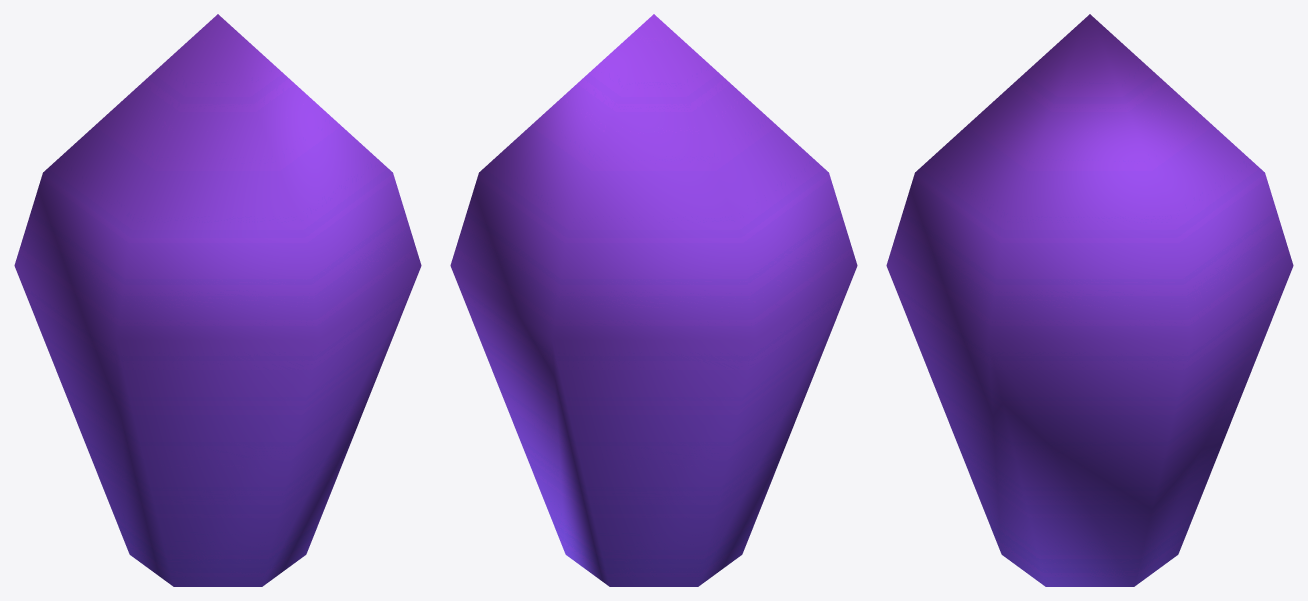
The model's file is little_crystal.glb.
3 renders of one model, left to right at view 1: azimuth 30°, elevation 25°; view 2: azimuth 150°, elevation 25°; view 3: azimuth 270°, elevation 25°, orthographic.
Visible parts, largest first — view 1: crystal_mesh.001; view 2: crystal_mesh.001; view 3: crystal_mesh.001.
Part boxes in pixels (box(x1,y1,x2,y2)): crystal_mesh.001: box(14, 14, 421, 586); crystal_mesh.001: box(450, 14, 857, 586); crystal_mesh.001: box(886, 14, 1293, 586).
Bounding box in the file's own units: 0.2109 × 0.3568 × 0.2435.
1 material, 1 textured.
